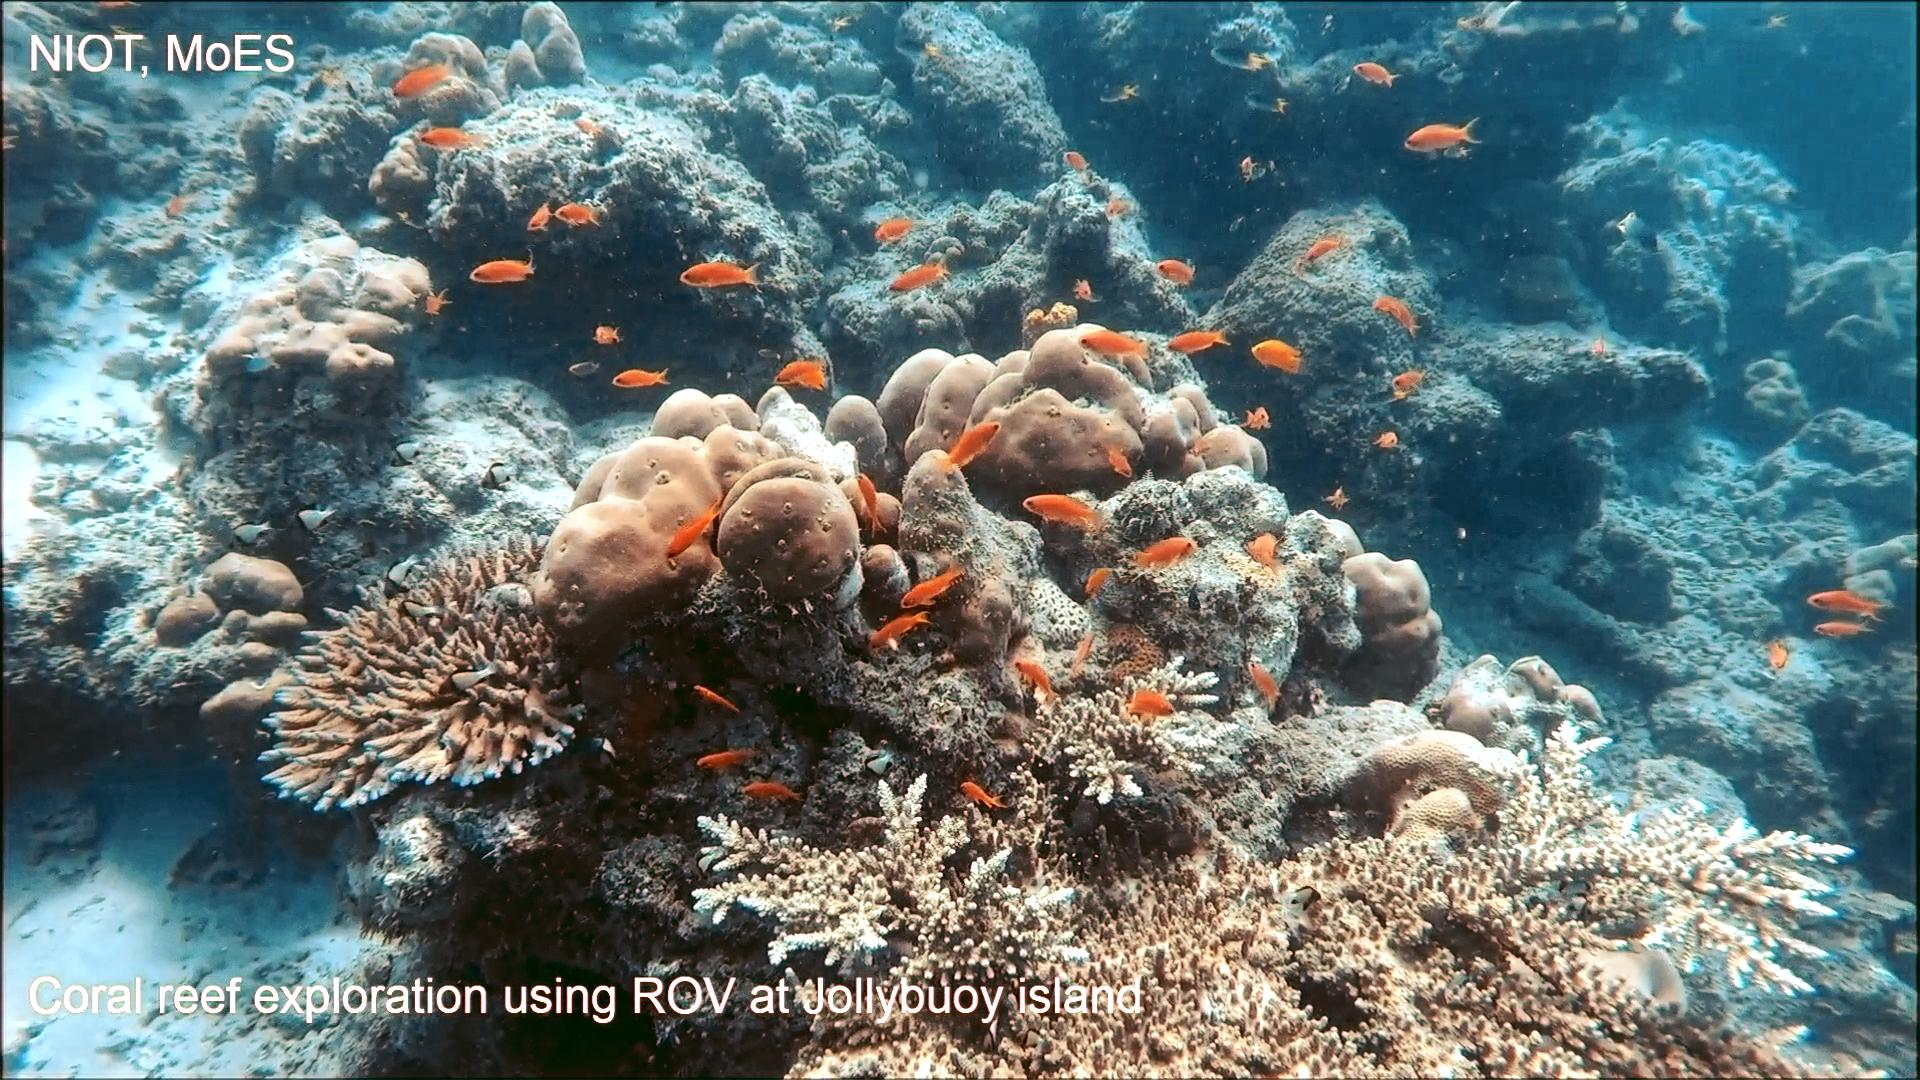Porites-Porites pukoensis: (527, 378, 870, 654), (851, 316, 1270, 516)
